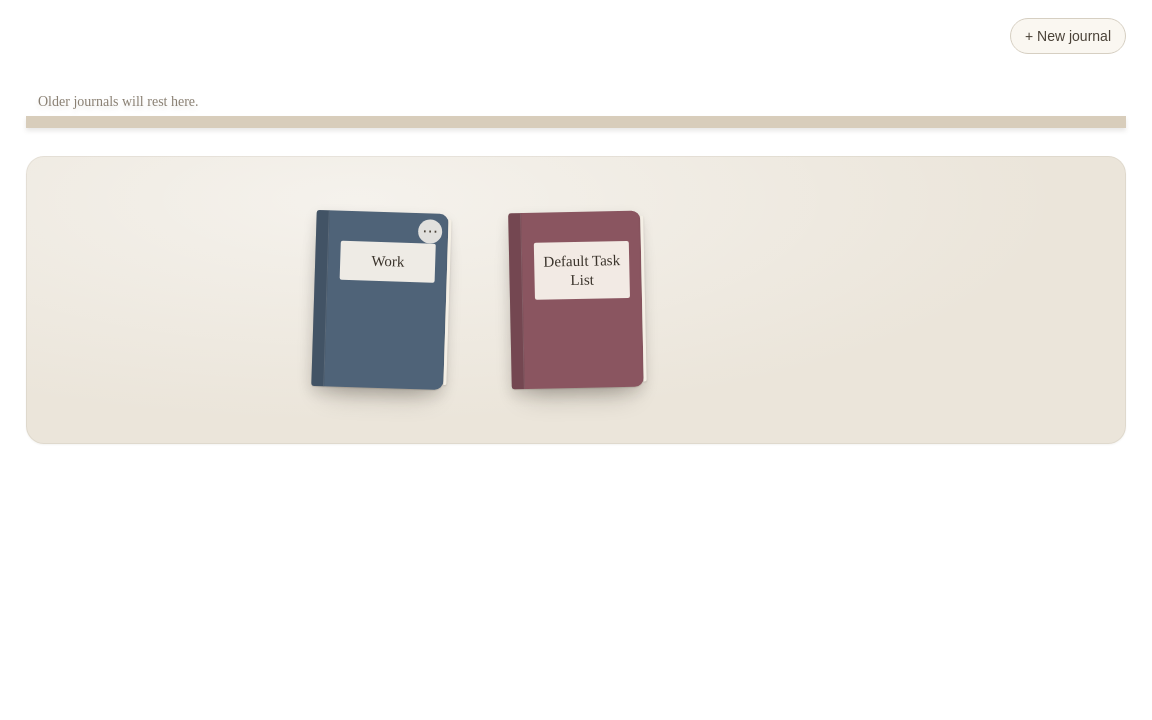
Test: deleting journals › a refusal from the context shows its own message
The width and height of the screenshot is (1152, 720).
Click the button named "Actions for Work": (430, 232) [418, 219, 442, 244]
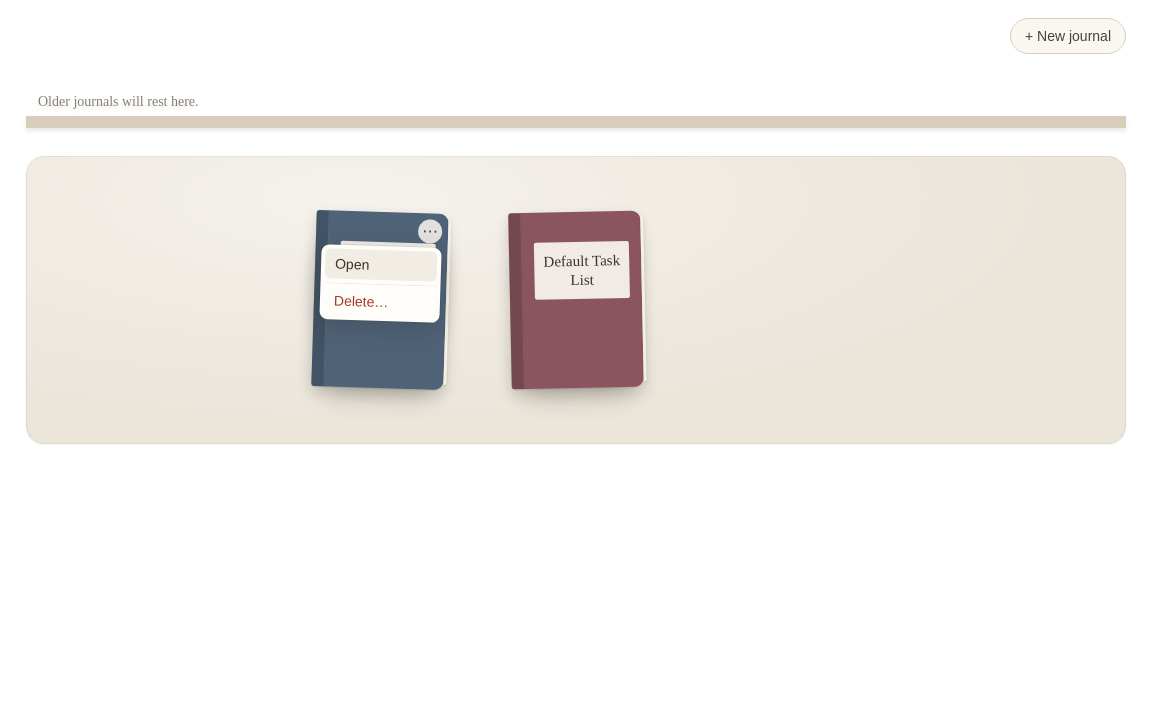
Click the menu item "Delete…": (380, 300) [324, 282, 436, 319]
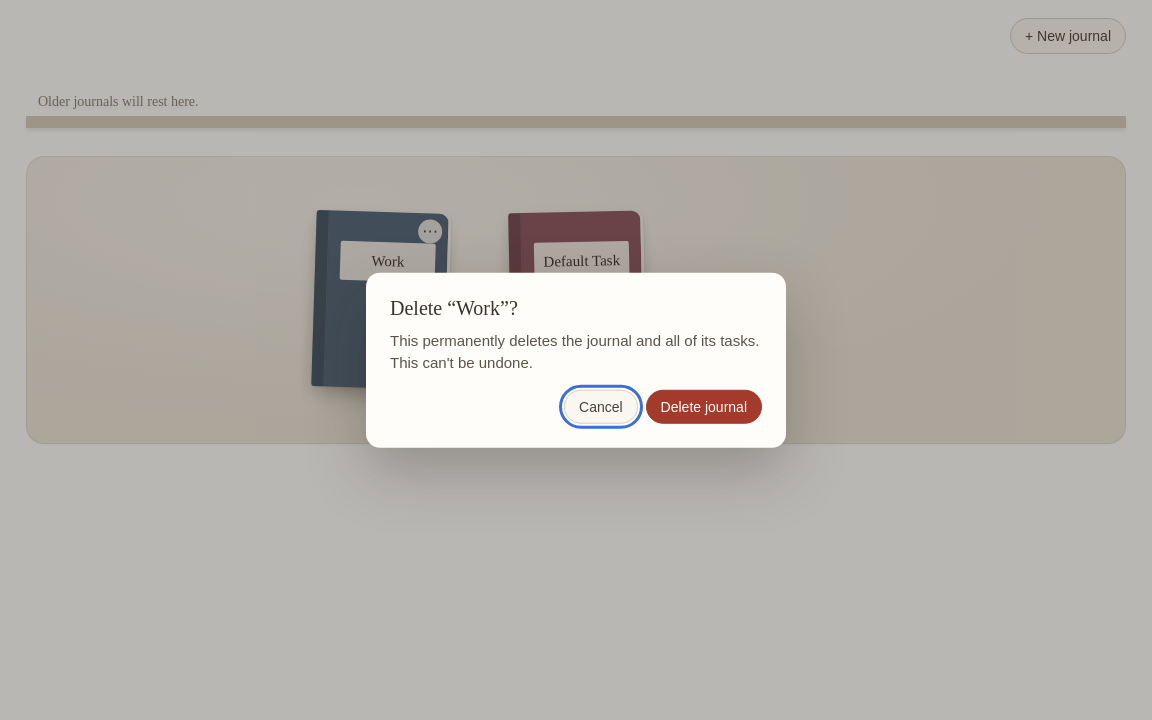
Click the button "Delete journal": (704, 406) [646, 389, 762, 423]
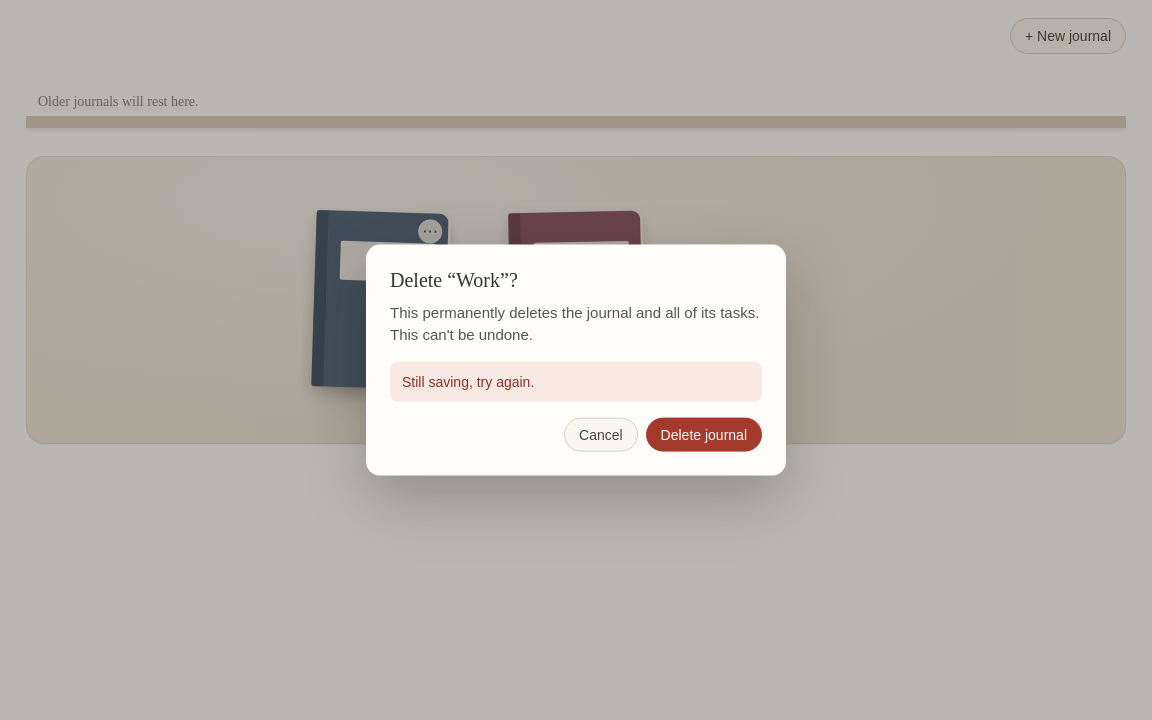
Expected: the message reads "Still saving, try again.", [402, 373, 534, 389]
